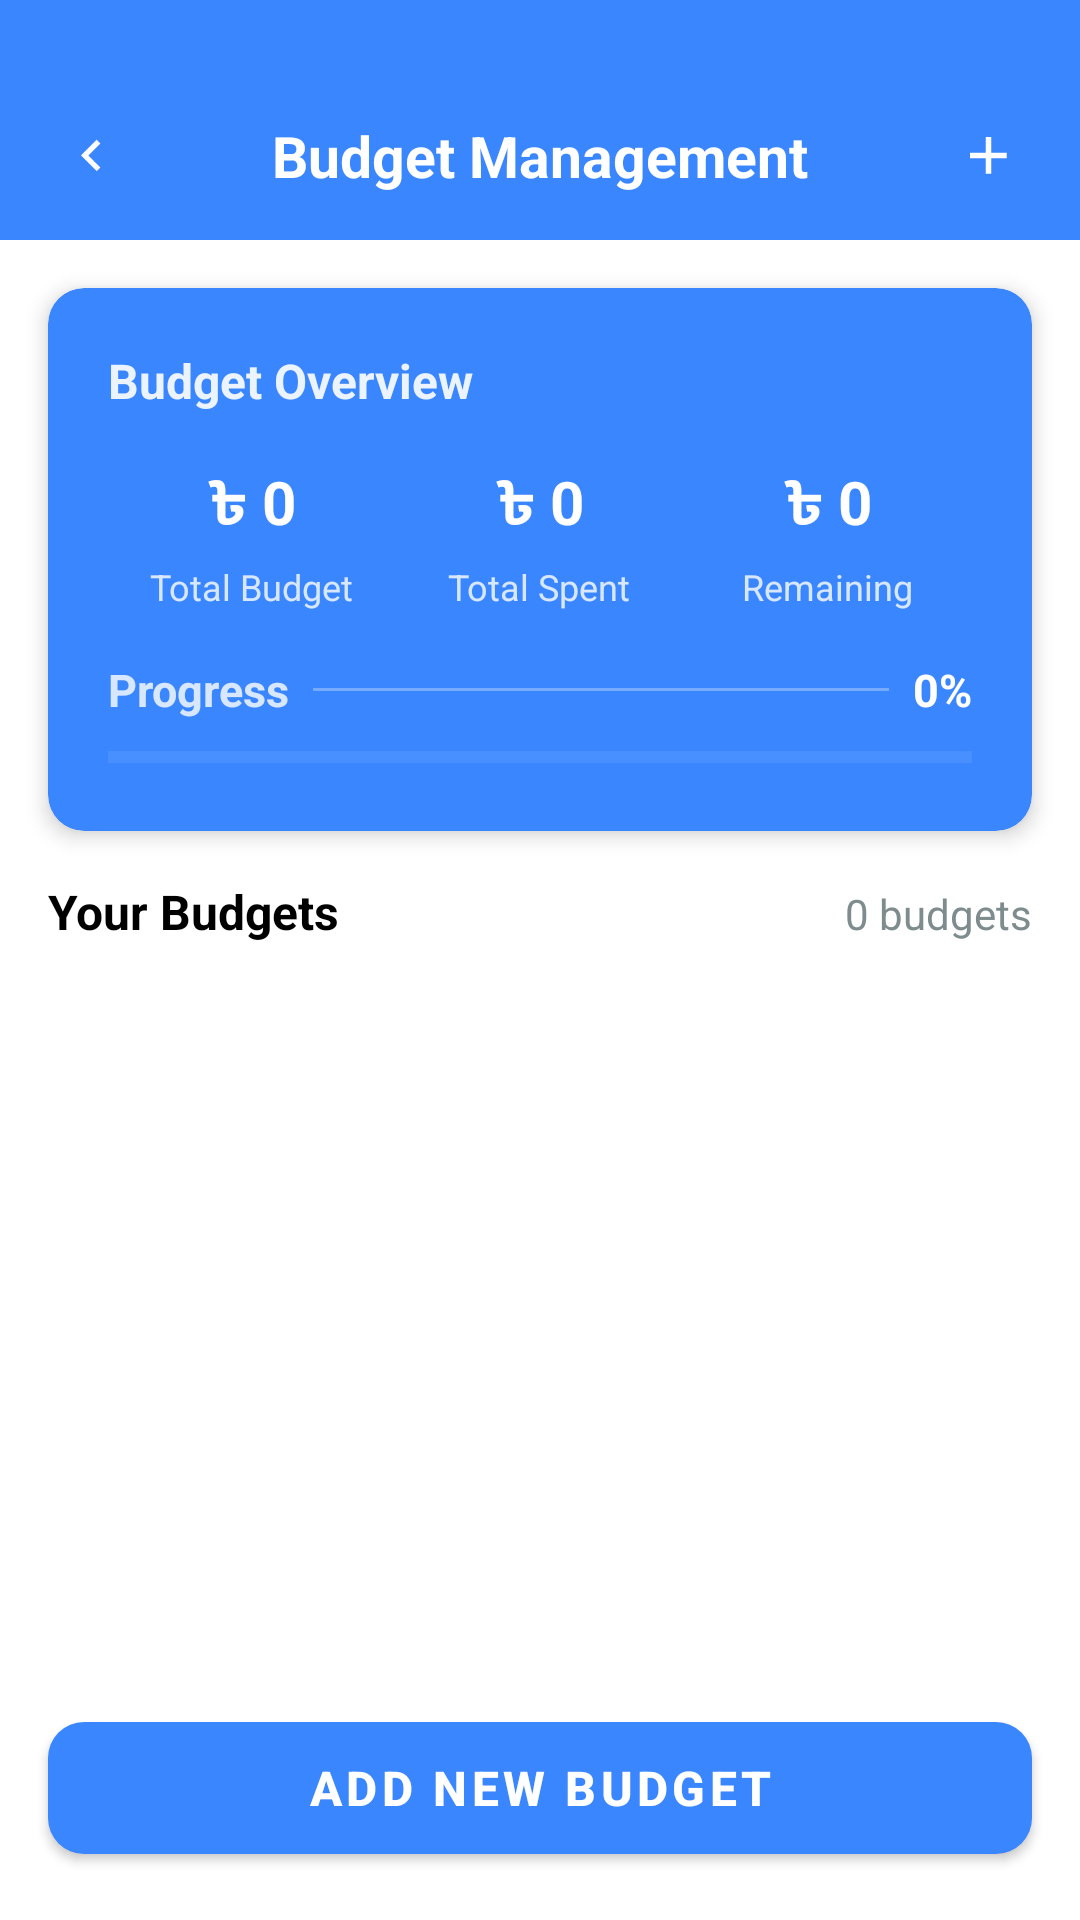

Icon click points for this 1080 x 1920 phone screenshot, format [x,y]:
add: [988,155]
chevron backward: [91,155]
